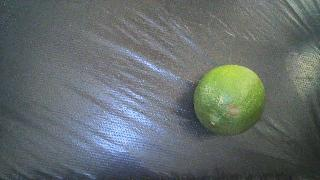DESECHO: (194, 65, 265, 135)
